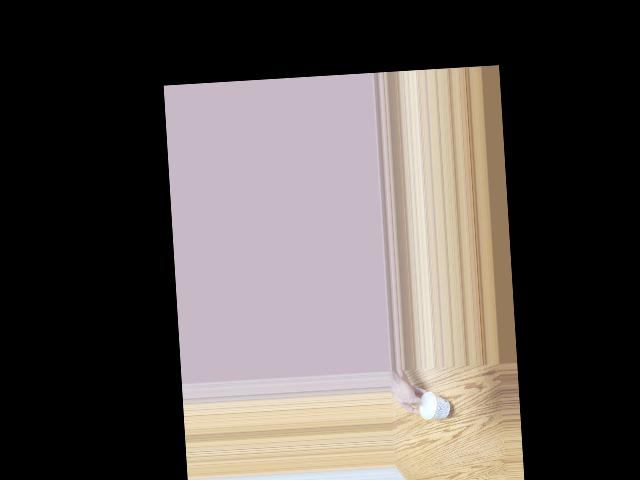cotage: (415, 385, 451, 420)
